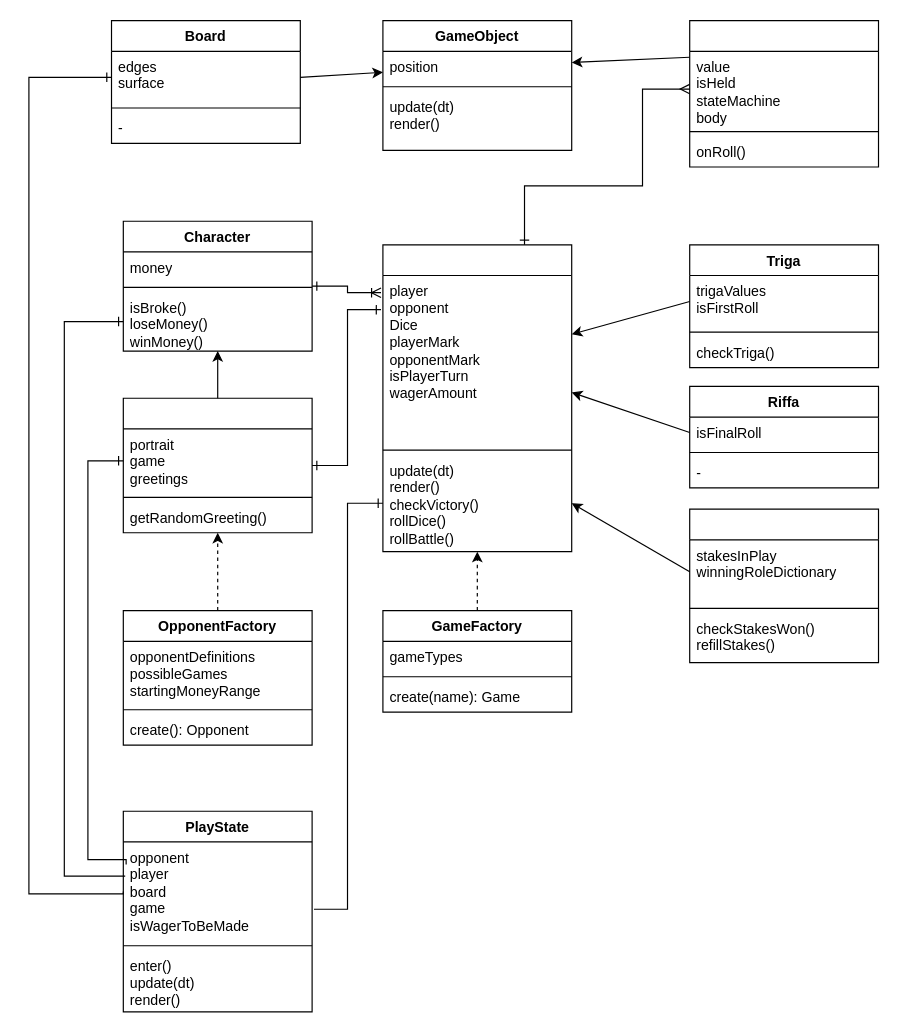
Image size: 899x1036. Some labels were removed from this diagram. Here are the shapes that lost their labels. From the top down, the box of each, then its label:
(689, 19, 879, 167): Die
(382, 244, 572, 552): Game
(122, 397, 312, 533): Opponent
(689, 508, 879, 663): Panquist
